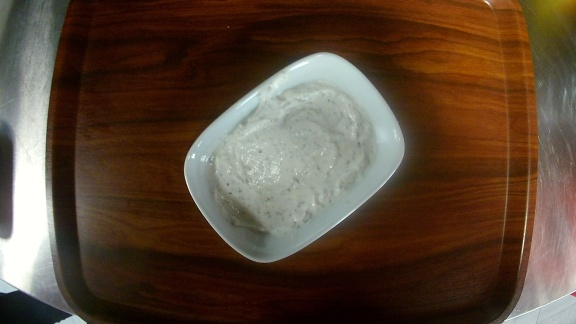haydari: (183, 52, 406, 264)
